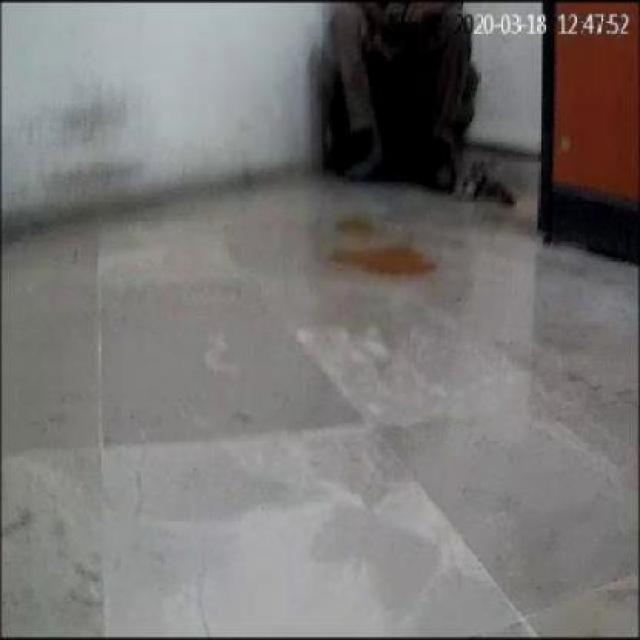spillage: (323, 245, 432, 280), (323, 213, 377, 242)
